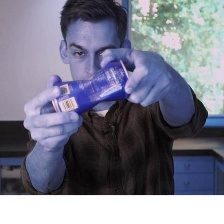can: (44, 57, 137, 116)
